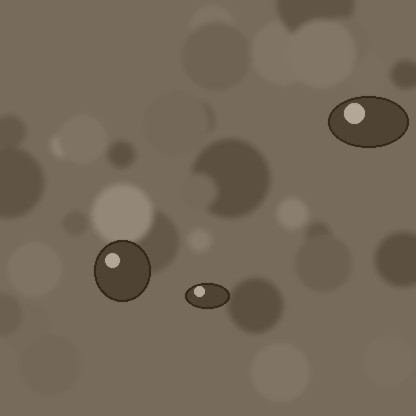gota: (328, 98, 408, 152), (94, 242, 150, 306), (185, 284, 229, 310)
